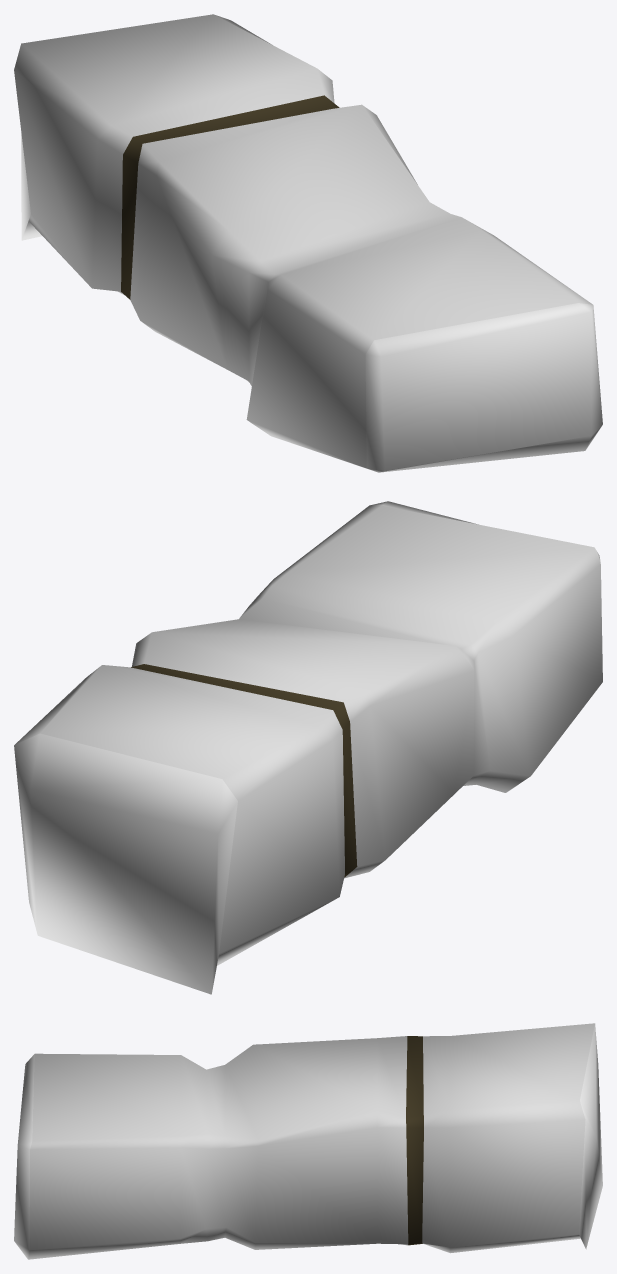
The model's file is HAy2.fbx.
3 views of the same model, one above another, from view 1: azimuth 30°, elevation 25°; view 2: azimuth 150°, elevation 25°; view 3: azimuth 270°, elevation 25° (orthographic). The views are drawn at different scales.
Visible parts, largest first — view 1: Cube.003; view 2: Cube.003; view 3: Cube.003.
Boxes of the visible parts, x1,y1,x2,y2 form: Cube.003: (14,14,602,472); Cube.003: (14,501,602,994); Cube.003: (14,1023,602,1259).
Size of the model in its own units: 70.61 by 52.6 by 175.
